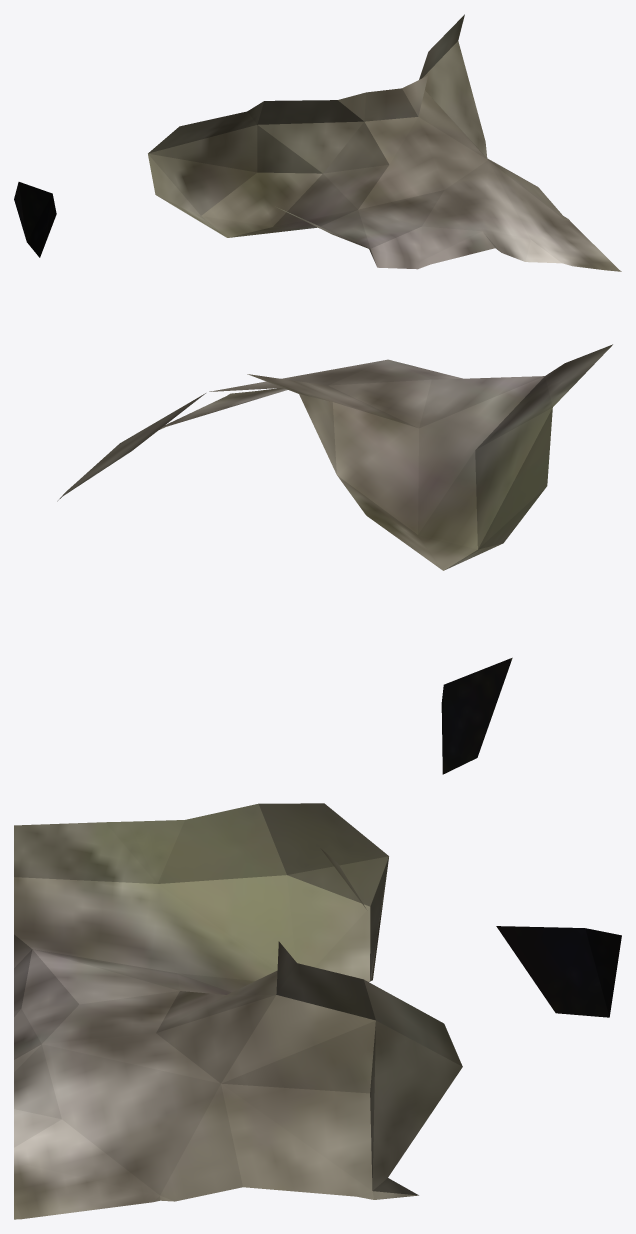
The picture shows the model from 3 angles, top to bottom: view 1: azimuth 30°, elevation 25°; view 2: azimuth 150°, elevation 25°; view 3: azimuth 270°, elevation 25°; orthographic projection. The views are drawn at different scales.
Size of the model in its own units: 1.36 by 0.5876 by 1.31.
Materials: 1 (1 with a texture image).
